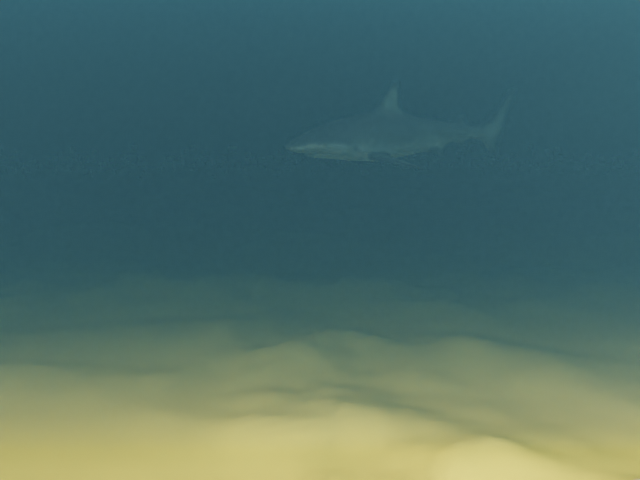Carribean Shark.001: (285, 82, 515, 169)
